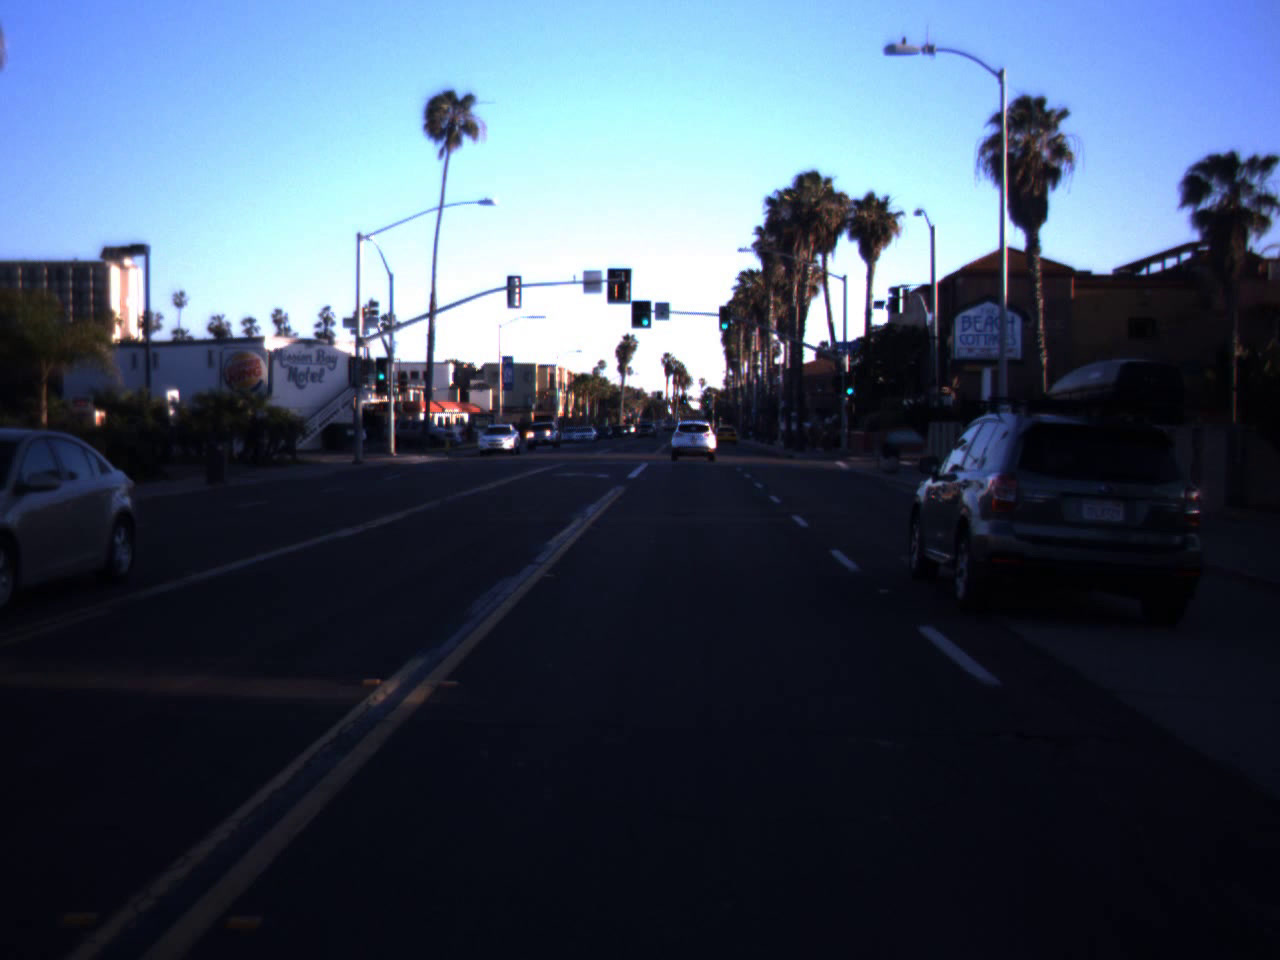go: (844, 371, 856, 396), (638, 306, 653, 326), (717, 310, 732, 330), (376, 356, 388, 381)
